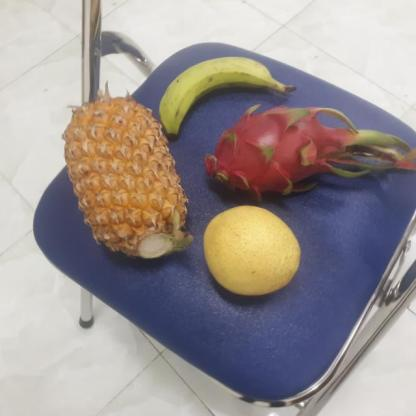banana: (158, 57, 282, 135)
pear: (200, 204, 293, 298)
pineapple: (61, 99, 189, 262)
pitaya: (198, 106, 346, 206)
